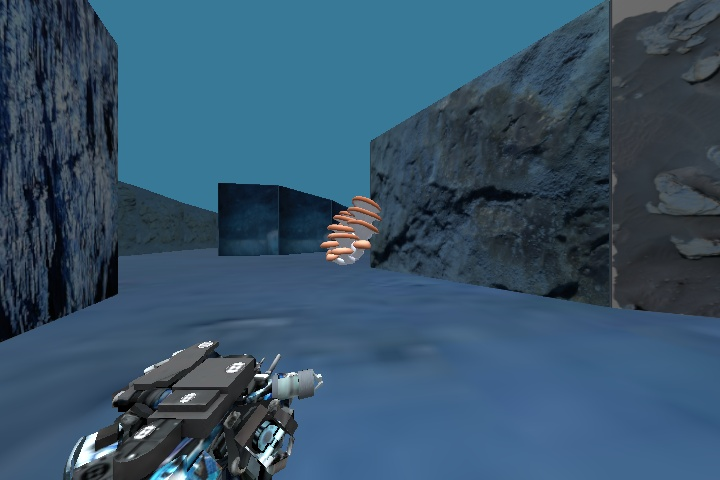mushrooms: (315, 192, 385, 271)
